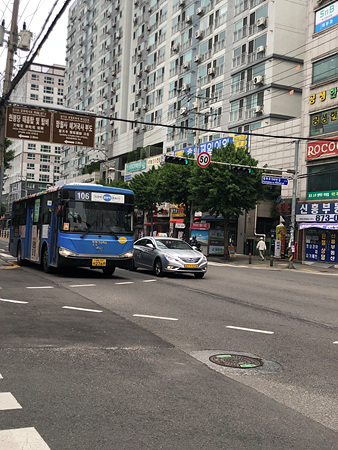bnum: (76, 190, 91, 200)
